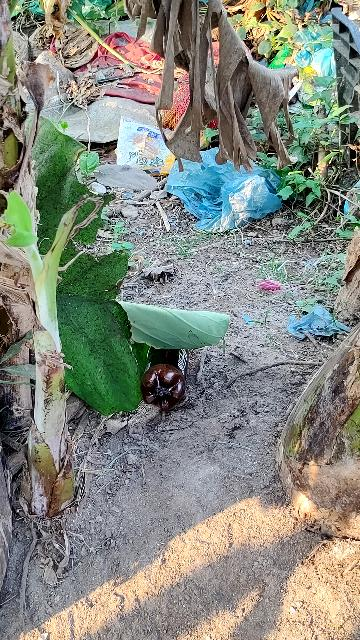bottle: (131, 331, 213, 414)
